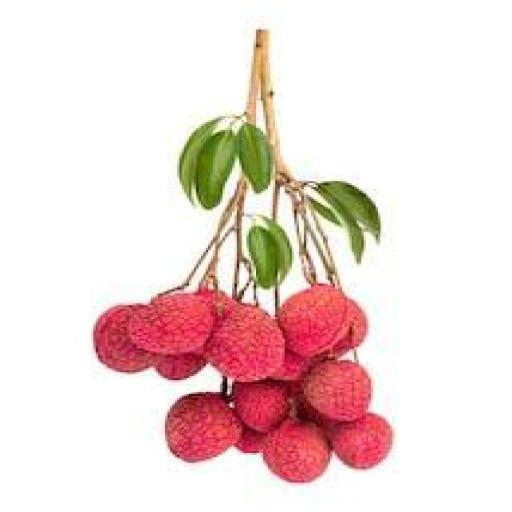lychee: (205, 306, 283, 382), (126, 294, 214, 354), (165, 392, 240, 462), (277, 284, 348, 356), (93, 306, 159, 372), (263, 420, 329, 482), (301, 361, 369, 421), (332, 414, 391, 468), (232, 381, 288, 431), (294, 390, 338, 441), (332, 300, 367, 356), (155, 353, 204, 380), (196, 288, 235, 319), (272, 351, 310, 382), (234, 428, 264, 452)
